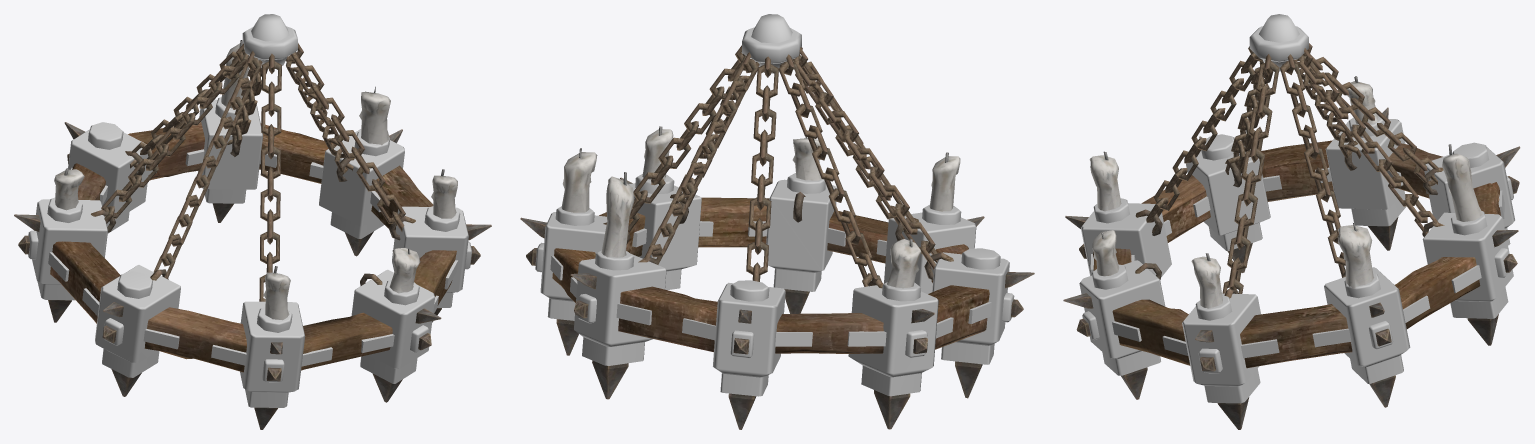
3 views of the same model, side by side, from view 1: azimuth 30°, elevation 25°; view 2: azimuth 150°, elevation 25°; view 3: azimuth 270°, elevation 25° (orthographic). The views are drawn at different scales.
Parts seen in each view (by area): view 1: SM_DR_Chandelier_02_LOD0; view 2: SM_DR_Chandelier_02_LOD0; view 3: SM_DR_Chandelier_02_LOD0.
Boxes of the visible parts, bbox=[...] form: SM_DR_Chandelier_02_LOD0: bbox=[14, 14, 491, 429]; SM_DR_Chandelier_02_LOD0: bbox=[520, 14, 1034, 429]; SM_DR_Chandelier_02_LOD0: bbox=[1063, 14, 1520, 429].
Size of the model in its own units: 1.5 by 1.27 by 1.48.
